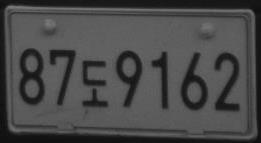1: (148, 50, 175, 109)
2: (213, 51, 240, 112)
6: (180, 51, 208, 110)
7: (49, 49, 76, 106)
8: (18, 47, 45, 106)
9: (115, 49, 143, 107)
도: (80, 59, 109, 108)
